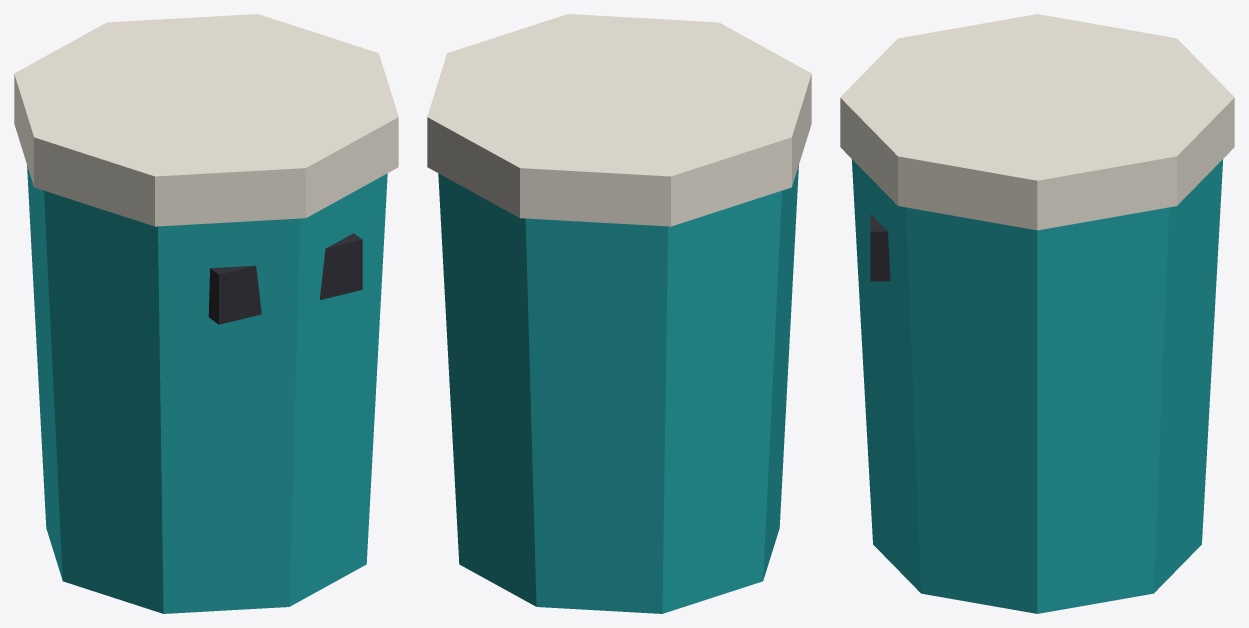
File: trash_bin.glb
3 views of the same model, side by side, from view 1: azimuth 30°, elevation 25°; view 2: azimuth 150°, elevation 25°; view 3: azimuth 270°, elevation 25° (orthographic).
Parts seen in each view (by area): view 1: trash_bin; view 2: trash_bin; view 3: trash_bin.
Boxes of the visible parts, x1=… form: trash_bin: x1=14, y1=14, x2=398, y2=613; trash_bin: x1=427, y1=14, x2=811, y2=613; trash_bin: x1=840, y1=14, x2=1234, y2=613.
Bounding box in the file's own units: 0.72 × 0.9 × 0.72.
